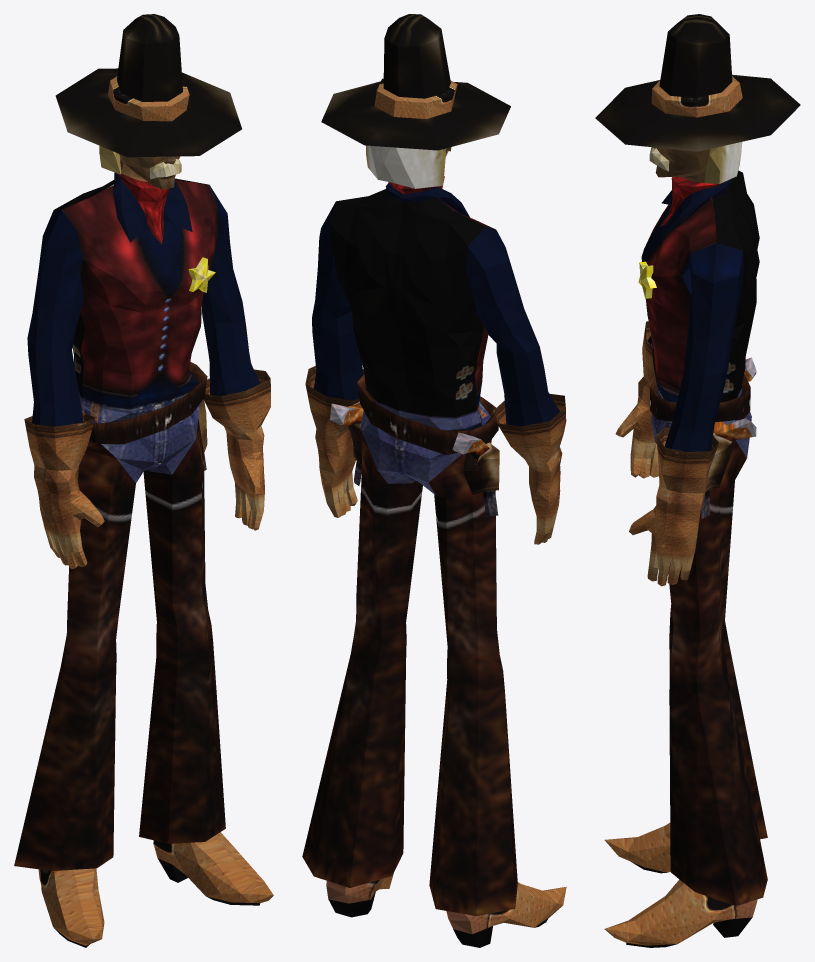
Rendered from Rusty Mac Cow.glb.
3 renders of one model, left to right at view 1: azimuth 30°, elevation 25°; view 2: azimuth 150°, elevation 25°; view 3: azimuth 270°, elevation 25°, orthographic.
Parts seen in each view (by area): view 1: Rusty Model; view 2: Rusty Model; view 3: Rusty Model.
Part boxes in pixels (x1,y1,x2,y2): Rusty Model: [14, 14, 273, 947]; Rusty Model: [302, 14, 566, 947]; Rusty Model: [595, 14, 800, 947].
Bounding box in the file's own units: 1.44 × 5 × 1.05.
Materials: 1 (1 with a texture image).
